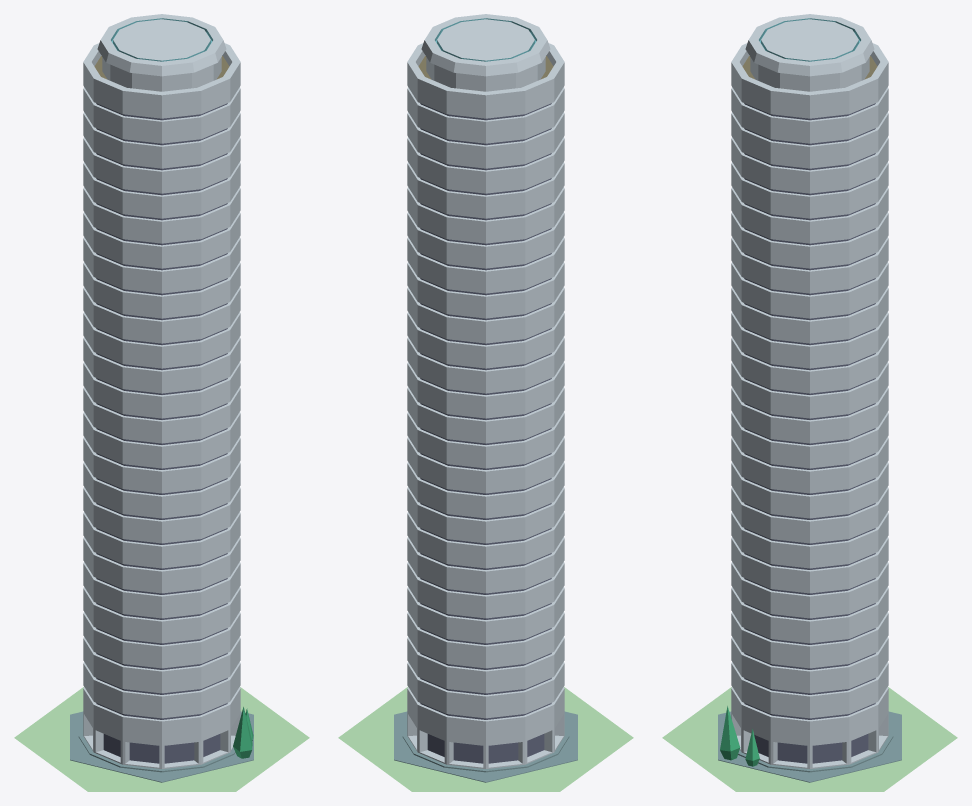
File: Temp_Building2.fbx
3 views of the same model, side by side, from view 1: azimuth 30°, elevation 25°; view 2: azimuth 150°, elevation 25°; view 3: azimuth 270°, elevation 25° (orthographic).
Parts seen in each view (by area): view 1: 柱体.001, 柱体, 柱体.007, 柱体.006; view 2: 柱体.001, 柱体, 柱体.007; view 3: 柱体.001, 柱体, 柱体.007, 柱体.006.
Part boxes in pixels (x1=…): 柱体.001: x1=78, y1=14, x2=240, y2=772; 柱体: x1=14, y1=687, x2=309, y2=791; 柱体.007: x1=70, y1=711, x2=253, y2=782; 柱体.006: x1=233, y1=707, x2=252, y2=758; 柱体.001: x1=402, y1=14, x2=569, y2=772; 柱体: x1=338, y1=687, x2=633, y2=791; 柱体.007: x1=394, y1=711, x2=577, y2=782; 柱体.001: x1=731, y1=14, x2=893, y2=772; 柱体: x1=662, y1=687, x2=957, y2=791; 柱体.007: x1=718, y1=711, x2=901, y2=782; 柱体.006: x1=720, y1=706, x2=740, y2=760.
Bounding box in the file's own units: 165 × 495 × 190.
